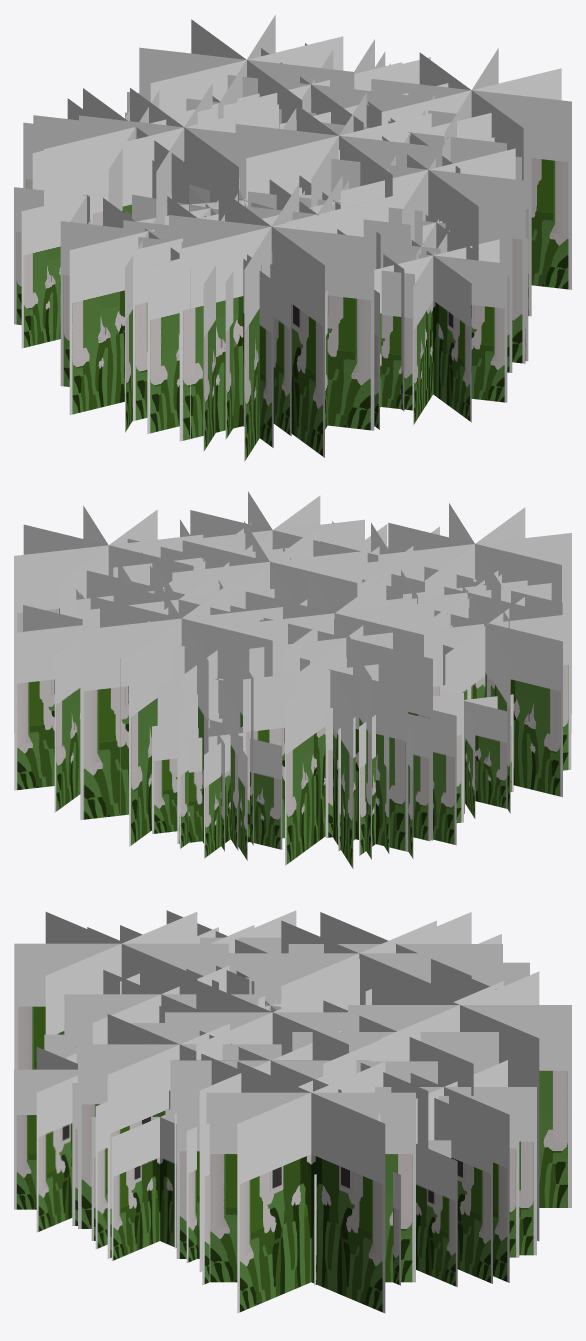
Rendered from SM_Grass_With_Flowers.fbx.
The picture shows the model from 3 angles, top to bottom: view 1: azimuth 30°, elevation 25°; view 2: azimuth 150°, elevation 25°; view 3: azimuth 270°, elevation 25°; orthographic projection. The views are drawn at different scales.
Parts seen in each view (by area): view 1: SM_Grass_With_Flowers; view 2: SM_Grass_With_Flowers; view 3: SM_Grass_With_Flowers.
Boxes of the visible parts, x1=… form: SM_Grass_With_Flowers: x1=14, y1=15, x2=571, y2=461; SM_Grass_With_Flowers: x1=14, y1=491, x2=571, y2=868; SM_Grass_With_Flowers: x1=14, y1=910, x2=571, y2=1313.
Bounding box in the file's own units: 137 × 49.63 × 124.
